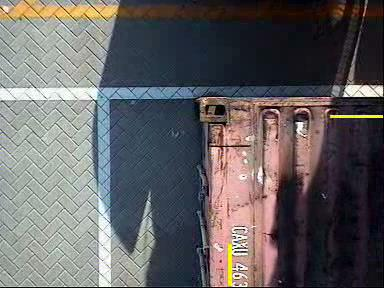groundmarker_2: (195, 50, 232, 113), (196, 216, 233, 279)
